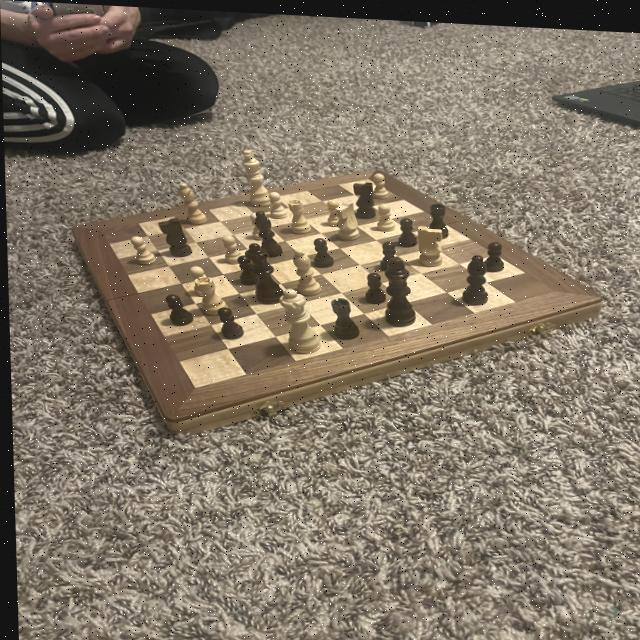bishop: (458, 247, 489, 304), (252, 207, 281, 256)
black-bishop: (378, 249, 417, 326)
black-king: (154, 214, 194, 257), (351, 177, 375, 216)
black-knight: (158, 291, 195, 327), (212, 302, 242, 340), (307, 232, 338, 267), (361, 266, 387, 301), (481, 234, 505, 269), (232, 252, 257, 285), (394, 211, 416, 244), (375, 235, 396, 268)
black-pawn: (241, 239, 281, 306)
black-queen: (326, 291, 358, 339), (422, 196, 449, 235)
black-rook: (173, 179, 208, 226), (289, 244, 320, 294)
white-bishop: (239, 144, 273, 206)
white-king: (413, 219, 444, 264), (332, 195, 360, 239)
white-knight: (181, 262, 211, 297), (128, 232, 157, 267), (216, 230, 242, 264), (261, 186, 288, 218), (316, 195, 342, 227), (241, 207, 265, 240), (372, 198, 396, 230), (369, 168, 387, 196)
white-pawn: (273, 283, 322, 354)
white-queen: (192, 273, 227, 317), (285, 194, 311, 233)
